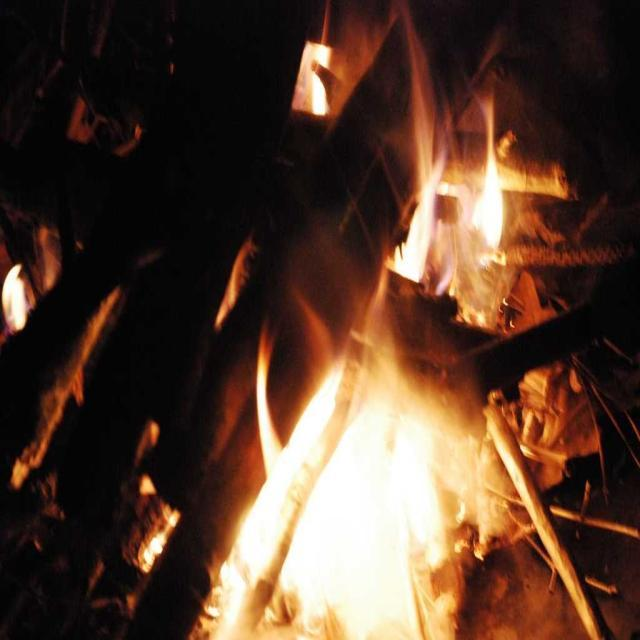Fire: (340, 420, 428, 616), (410, 208, 436, 268), (481, 179, 504, 231)
